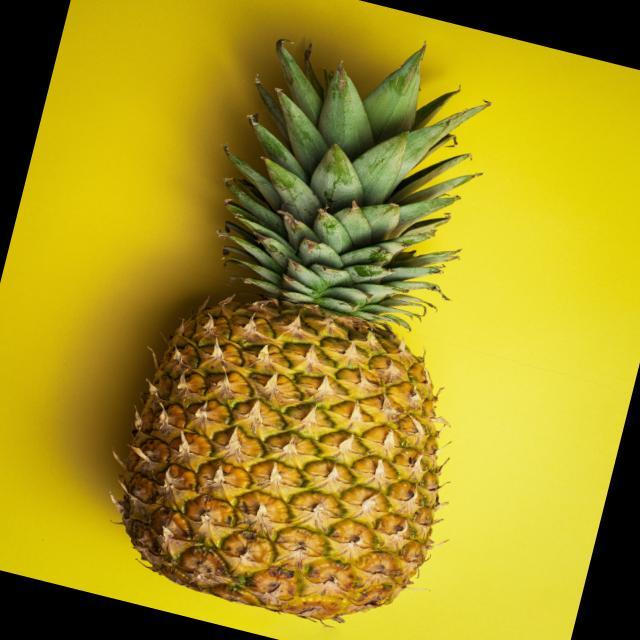PINEAPLE: (99, 37, 534, 640)
